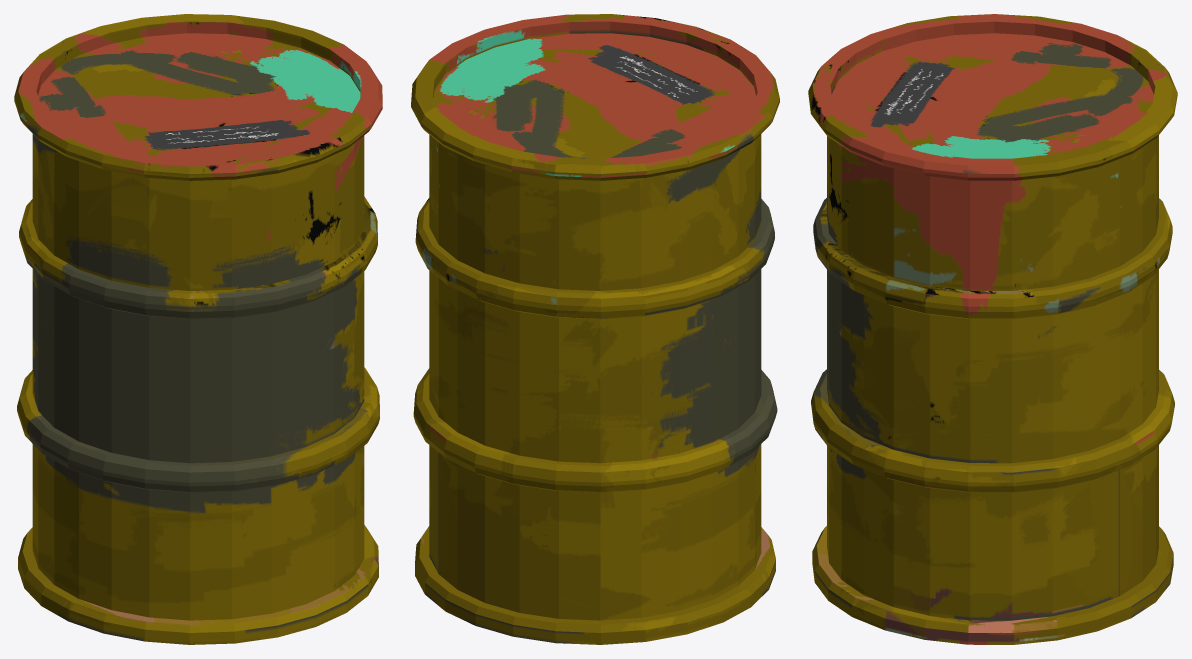
The model's file is barril_1.glb.
The picture shows the model from 3 angles, left to right: view 1: azimuth 30°, elevation 25°; view 2: azimuth 150°, elevation 25°; view 3: azimuth 270°, elevation 25°; orthographic projection.
Visible parts, largest first — view 1: Barril; view 2: Barril; view 3: Barril.
Boxes of the visible parts, bbox=[...] form: Barril: bbox=[14, 14, 382, 644]; Barril: bbox=[411, 14, 779, 644]; Barril: bbox=[808, 14, 1177, 644].
Bounding box in the file's own units: 0.7129 × 1.02 × 0.7139.
1 material, 1 textured.
